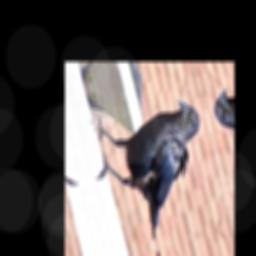Crow: (81, 93, 226, 250)
